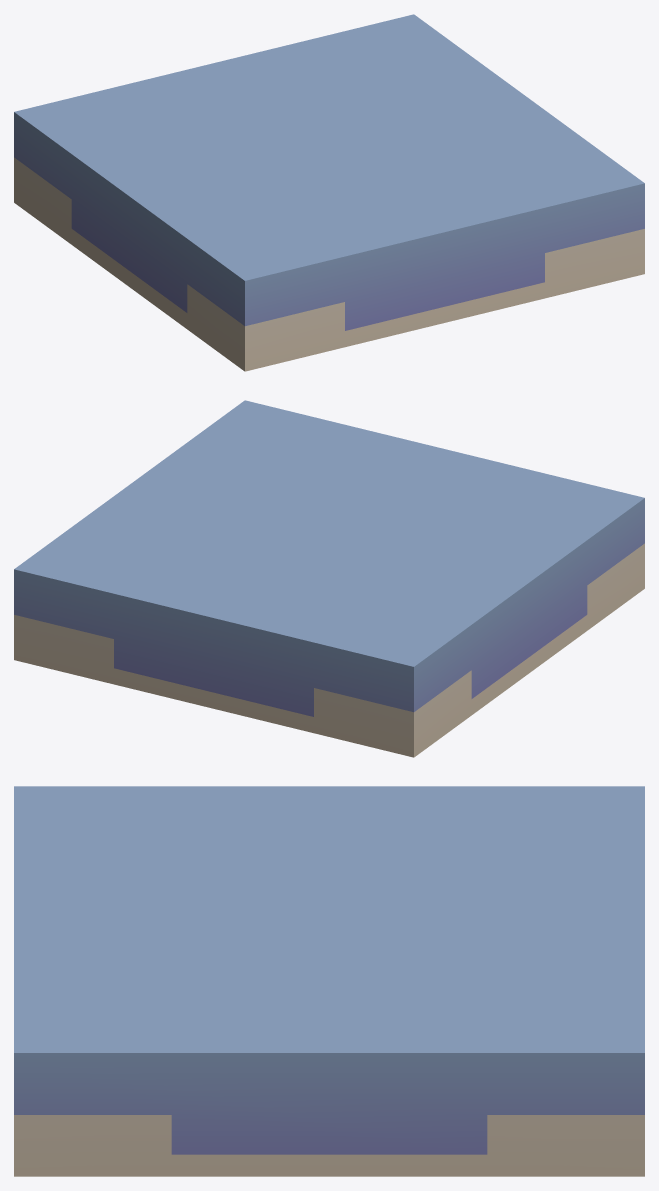
The model's file is tower-square-mid-color.glb.
3 views of the same model, one above another, from view 1: azimuth 30°, elevation 25°; view 2: azimuth 150°, elevation 25°; view 3: azimuth 270°, elevation 25° (orthographic). The views are drawn at different scales.
Visible parts, largest first — view 1: tower-square-mid-color; view 2: tower-square-mid-color; view 3: tower-square-mid-color.
Part boxes in pixels (x1,y1,x2,y2): tower-square-mid-color: (14,14,644,371); tower-square-mid-color: (14,400,644,757); tower-square-mid-color: (14,786,644,1176).
Bounding box in the file's own units: 0.93 × 0.2016 × 0.93.
